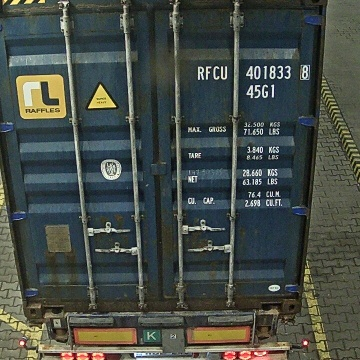serial_id: (198, 65, 310, 79)
